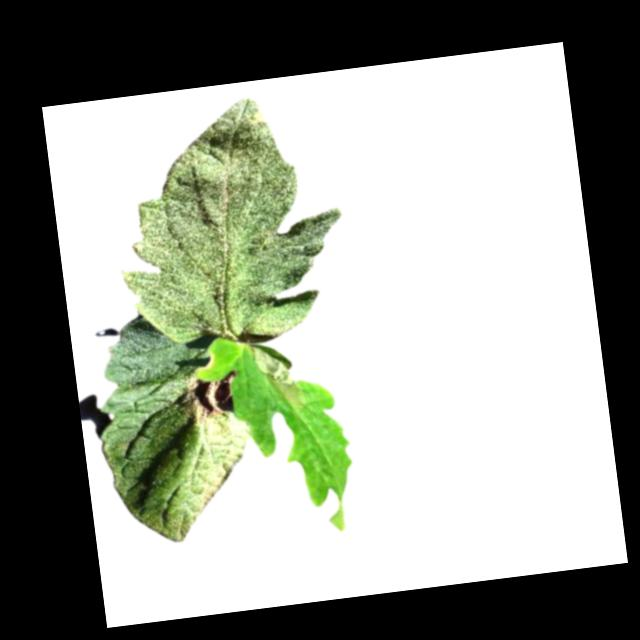Late_blight: (242, 339, 303, 413), (181, 369, 244, 425)
healthy: (100, 86, 355, 358)
